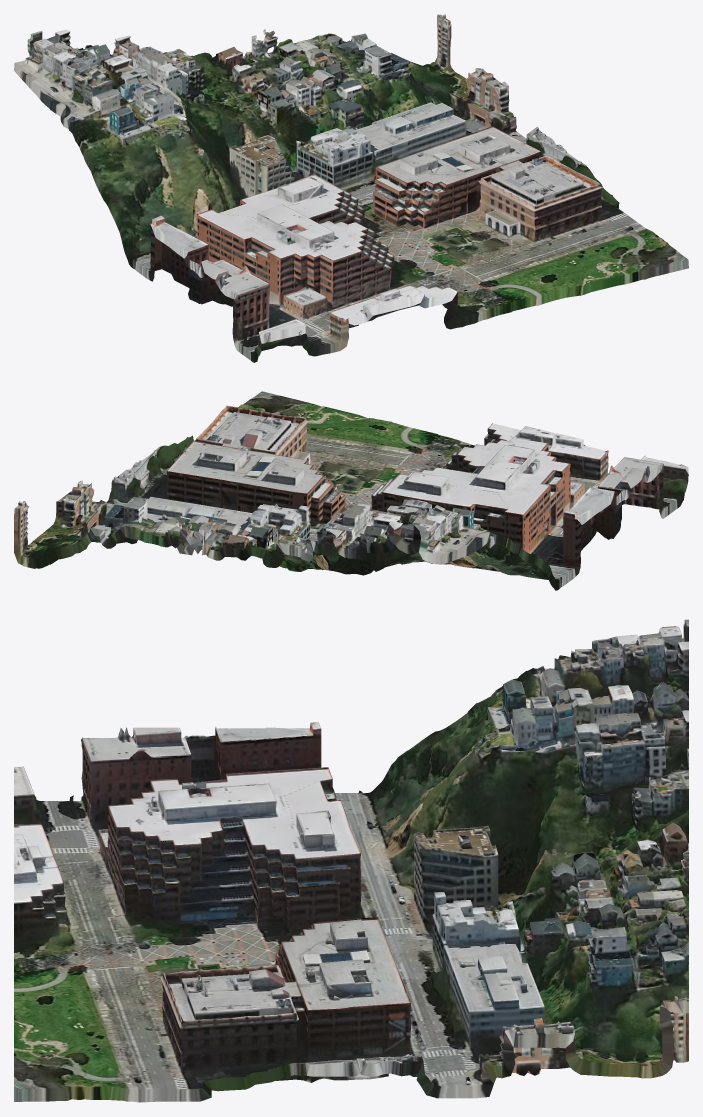
Rendered from z17-20970-50649-h0-yup-uvflip-v3-world.glb.
3 views of the same model, one above another, from view 1: azimuth 30°, elevation 25°; view 2: azimuth 150°, elevation 25°; view 3: azimuth 270°, elevation 25° (orthographic). The views are drawn at different scales.
Bounding box in the file's own units: 242 × 85.12 × 243.
1 material, 1 textured.
